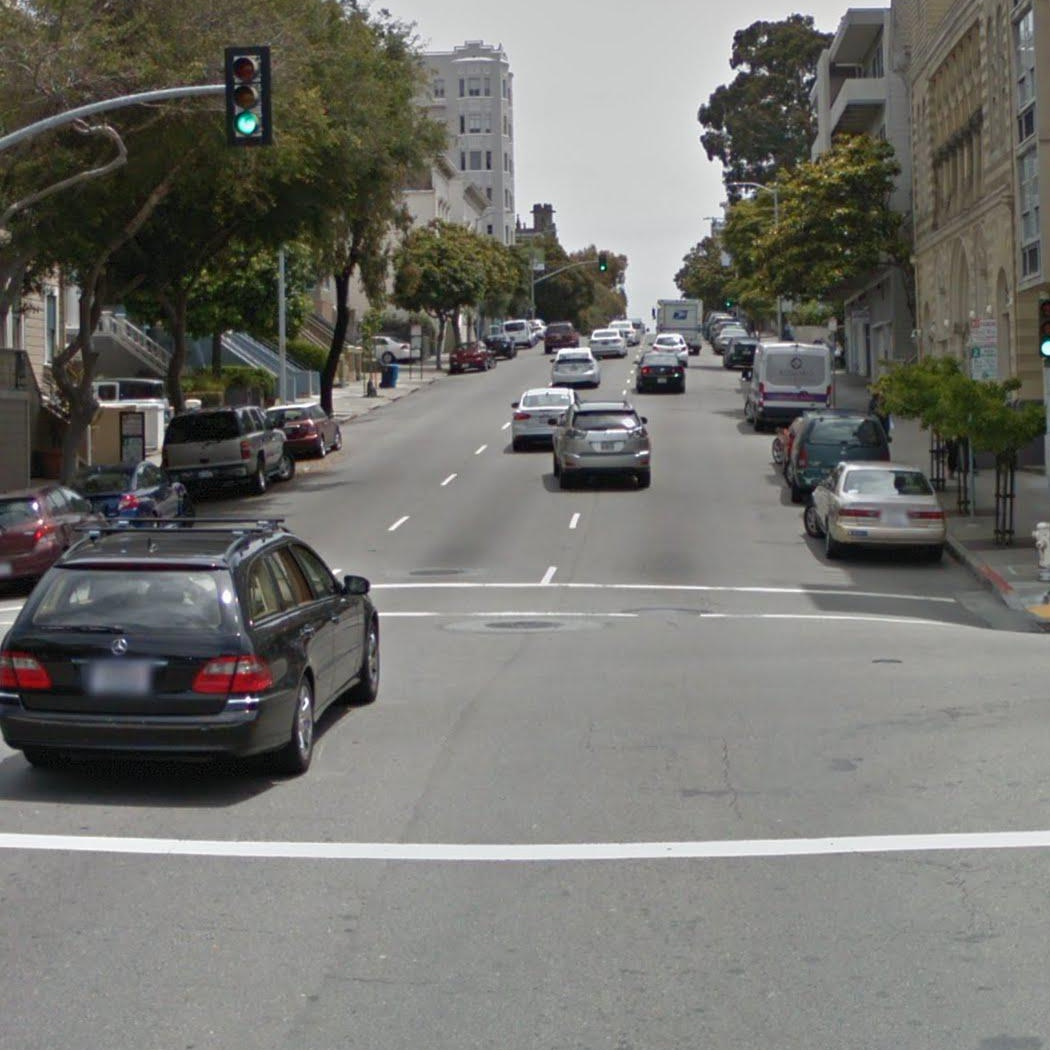2 Hour Parking: (969, 345, 1001, 383)
No Parking: (969, 316, 1000, 348)
